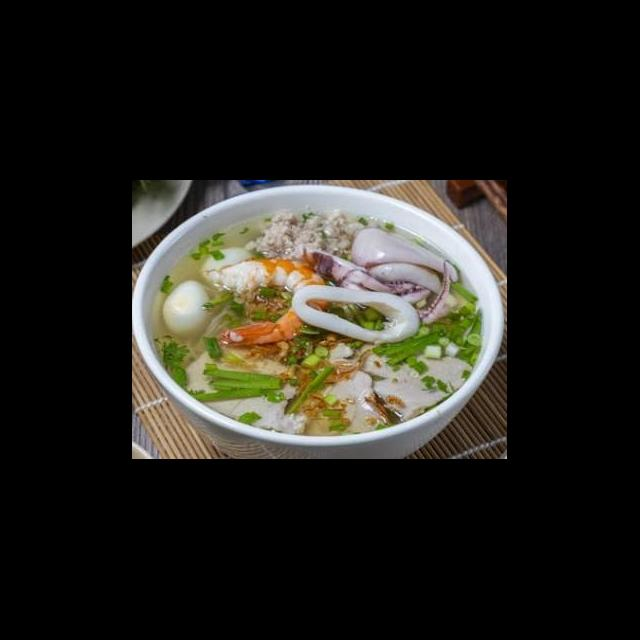muc: (298, 245, 458, 328), (290, 282, 424, 348), (348, 227, 464, 300)
thit bam: (240, 204, 382, 266)
thit heo: (182, 342, 310, 441), (274, 342, 394, 439), (346, 339, 476, 424)
tom: (200, 256, 332, 352)
trung: (160, 278, 212, 340), (198, 246, 258, 288)
